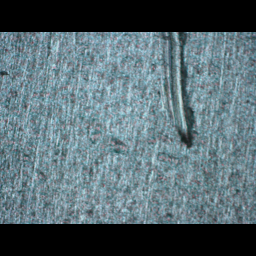d: (155, 32, 196, 149)
